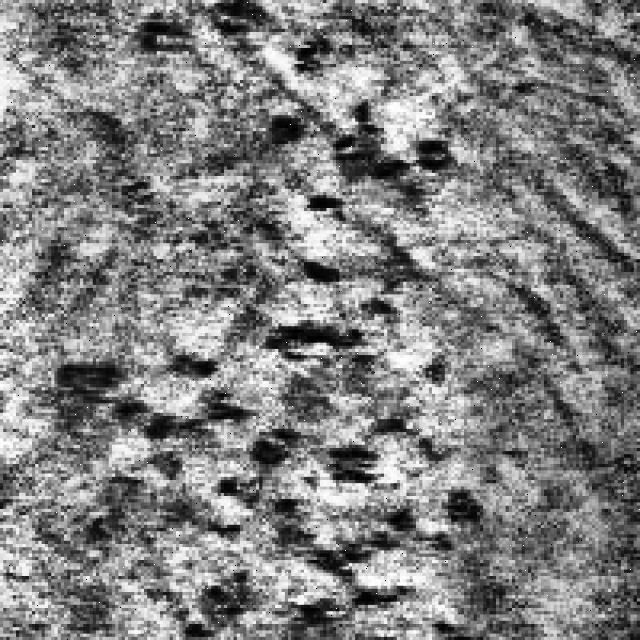Crazing: (55, 348, 502, 630), (253, 67, 461, 426)
